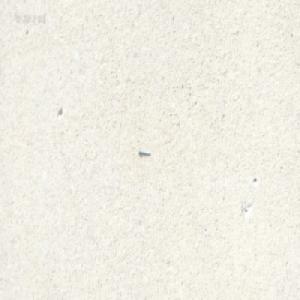Nail: (137, 147, 150, 155)
